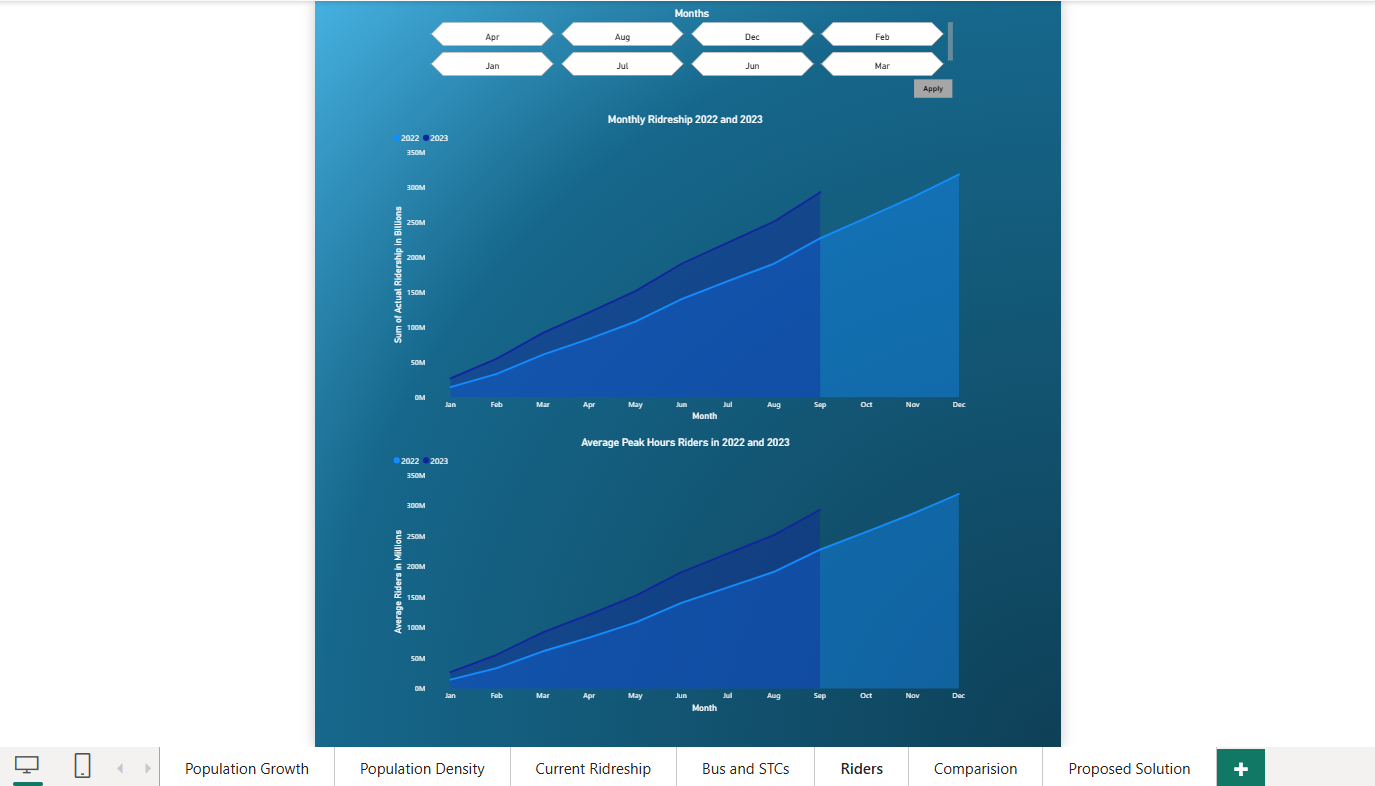

This screenshot's page, from the dashboard's own definition file:
{"tool":"powerbi","page":{"name":"Riders","canvas":[1200,1200],"ordinal":4},"visuals":[{"type":"areaChart","title":"Monthly Ridreship 2022 and 2023","fields":{"Category":["Table 6 (Monthly).Year"],"Y":["Sum(Table 6 (Monthly).2022 YTD Actual)","Sum(Table 6 (Monthly).2023 YTD Actual)"]},"box":[120,180,950,500],"z":0},{"type":"areaChart","title":"Average Peak Hours Riders in 2022 and 2023","fields":{"Category":["Table 2 (Annual).Year"],"Y":["Sum(Table 2 (Annual).2022 YTD Actual)","Sum(Table 2 (Annual).2023 YTD Actual)"]},"box":[120,700,950,450],"z":1000},{"type":"advancedSlicerVisual","title":"Months","fields":{"Values":["Table 6 (Monthly).Year"]},"box":[180,10,850,150],"z":2000}]}

Visuals, with their boxes on the page's 1200x1200 design canvas (x1, y1, x2, y2). These are canvas units, not pixel positions in the 1375x786 screenshot, which may show the page scaled, cropped or inside an application window:
"Monthly Ridreship 2022 and 2023" areaChart: bbox=(120, 180, 1070, 680)
"Average Peak Hours Riders in 2022 and 2023" areaChart: bbox=(120, 700, 1070, 1150)
"Months" advancedSlicerVisual: bbox=(180, 10, 1030, 160)
